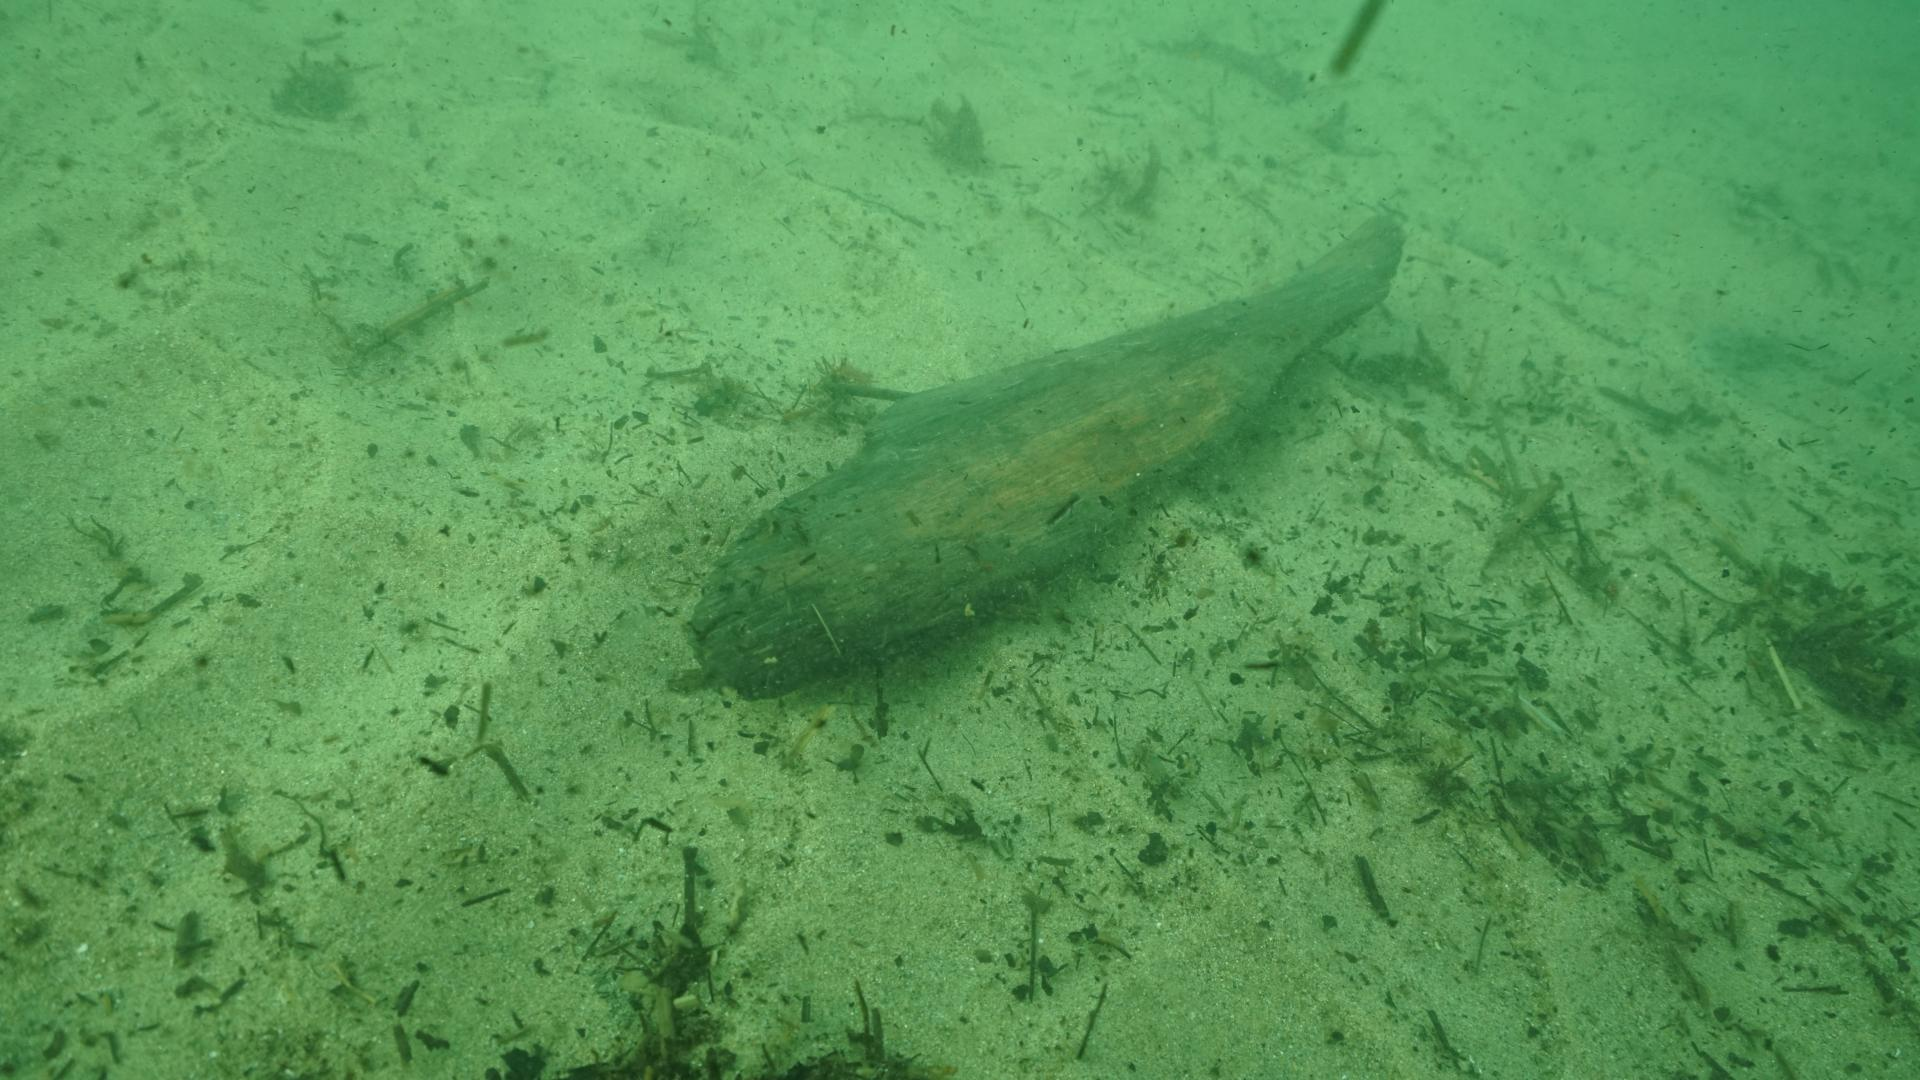wood: (683, 211, 1404, 703)
